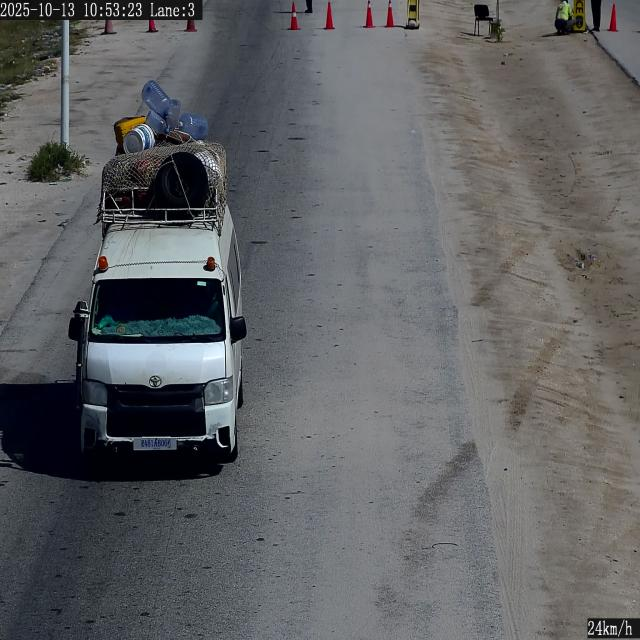BUS: (134, 438, 176, 450)
